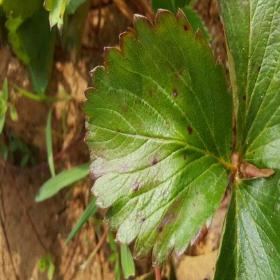Leaf Spot: (79, 7, 235, 267), (215, 0, 279, 172)
